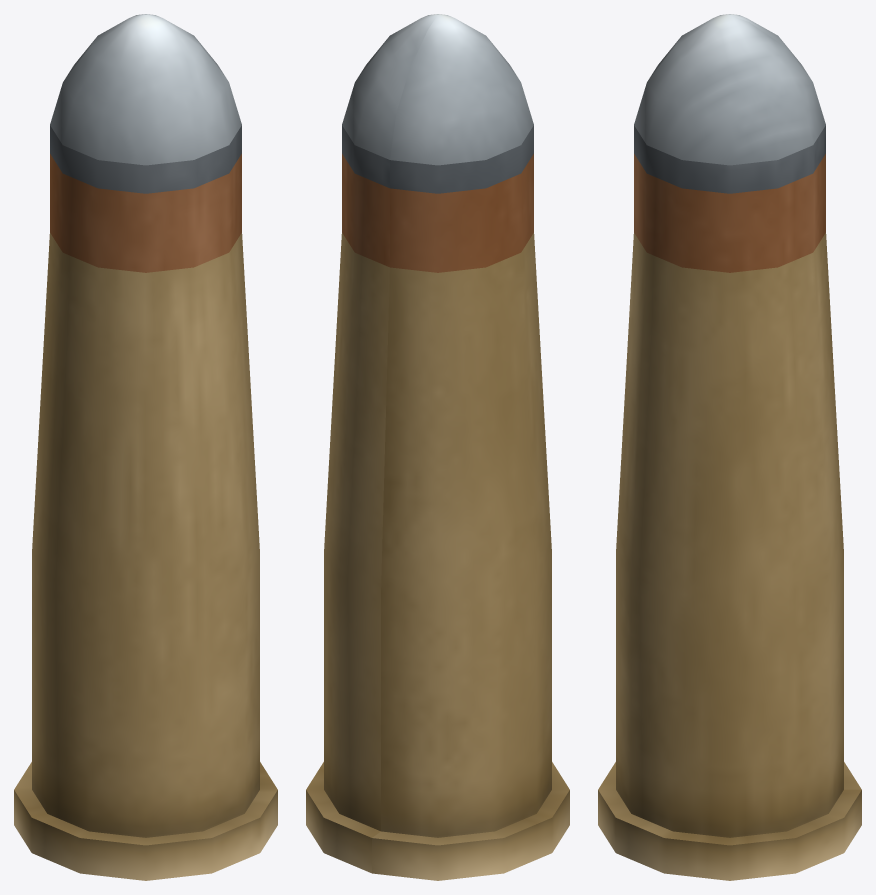
Rendered from MediumTank_Gear_Shell_03.FBX.
The picture shows the model from 3 angles, left to right: view 1: azimuth 30°, elevation 25°; view 2: azimuth 150°, elevation 25°; view 3: azimuth 270°, elevation 25°; orthographic projection.
Visible parts, largest first — view 1: MediumTank_Gear_Shell_03; view 2: MediumTank_Gear_Shell_03; view 3: MediumTank_Gear_Shell_03.
Part boxes in pixels (box(x1,y1,x2,y2)): MediumTank_Gear_Shell_03: box(14, 14, 277, 880); MediumTank_Gear_Shell_03: box(306, 14, 569, 880); MediumTank_Gear_Shell_03: box(598, 14, 861, 880).
Size of the model in its own units: 0.1003 by 0.3398 by 0.1003.
